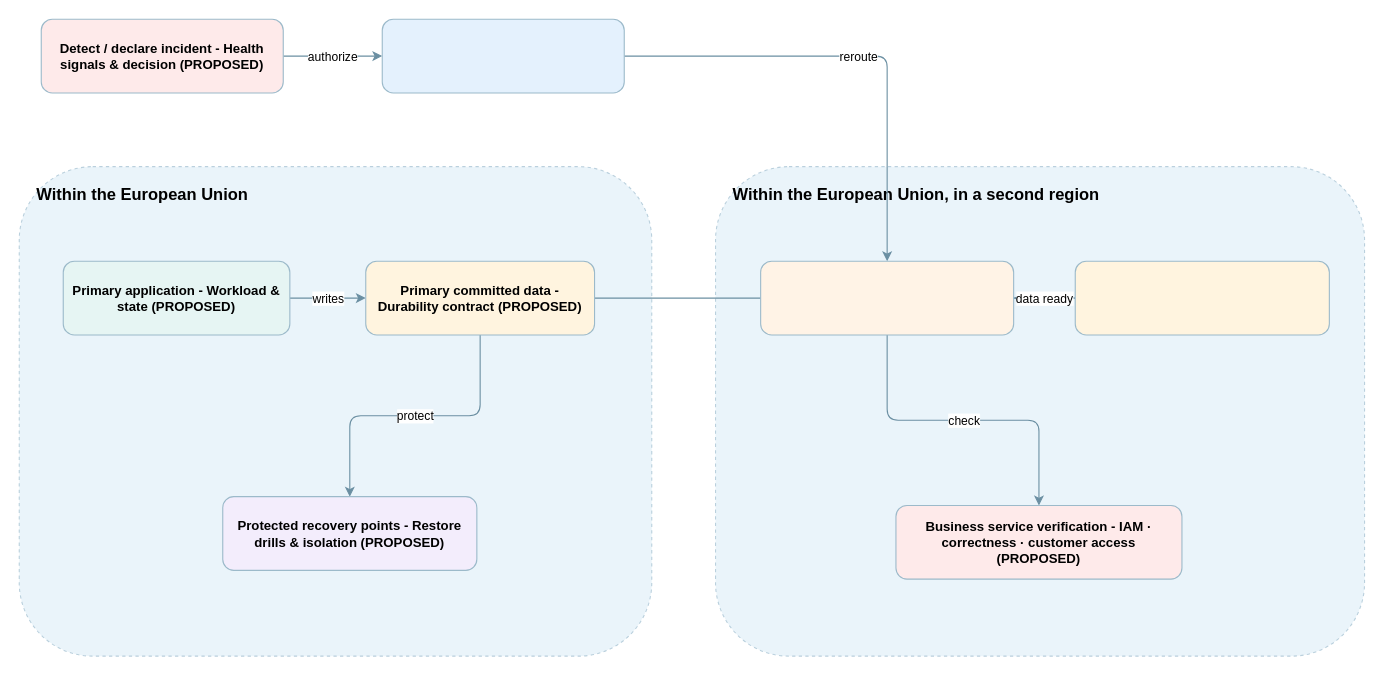
The diagram is 1384 pixels wide and 675 high, and some of its shapes have lost their labels. The shapes that lost their labels are listed below. From the top down, each one's centre as x and y in pixels, then its label:
(x=502, y=55): Traffic switching - DNS / LB / global route (PROPOSED)
(x=887, y=297): Scale pilot-light app - Strategy: Pilot Light (PROPOSED)
(x=1201, y=297): Recovery copy / restore - Lag & promotion require proof (PROPOSED)
